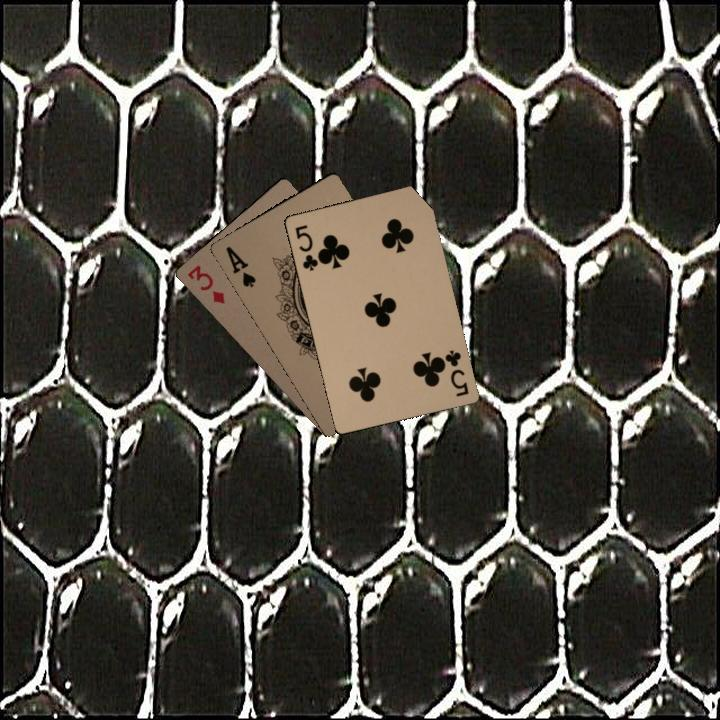3d: (183, 261, 227, 306)
5c: (291, 220, 324, 274), (438, 346, 471, 399)
As: (222, 242, 259, 290)
